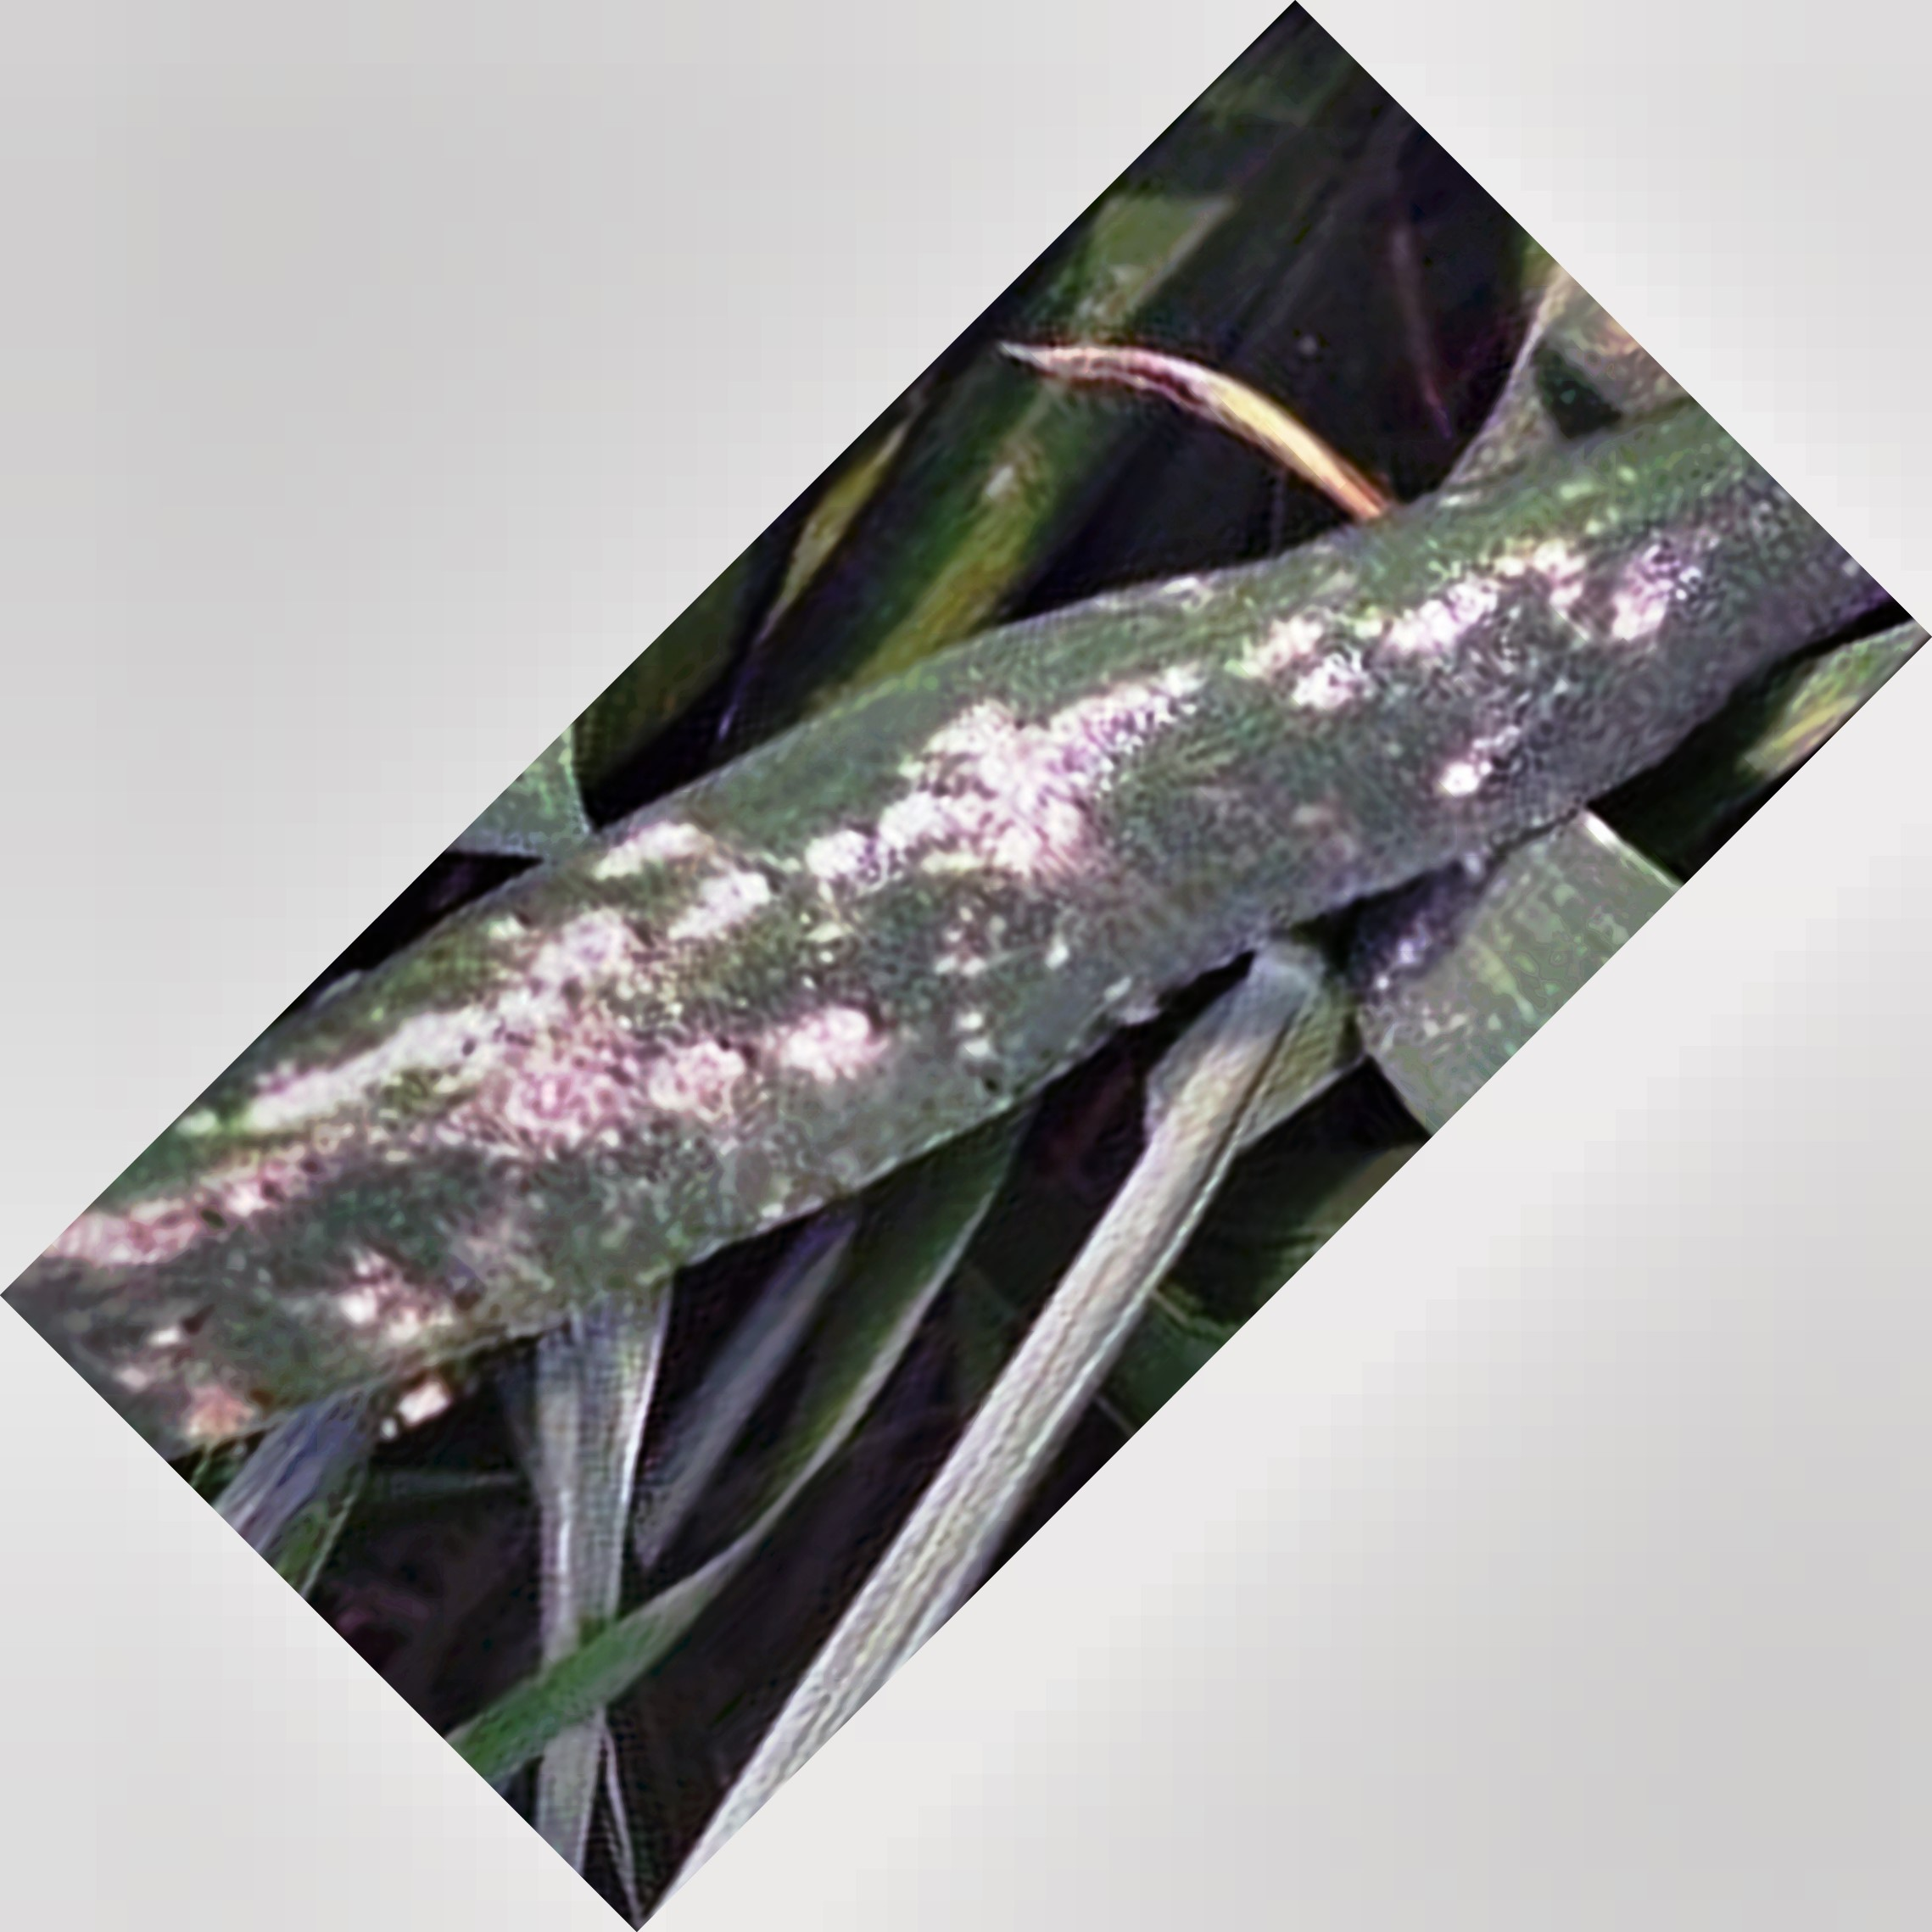Powdery Mildew: (257, 479, 1644, 1355)
